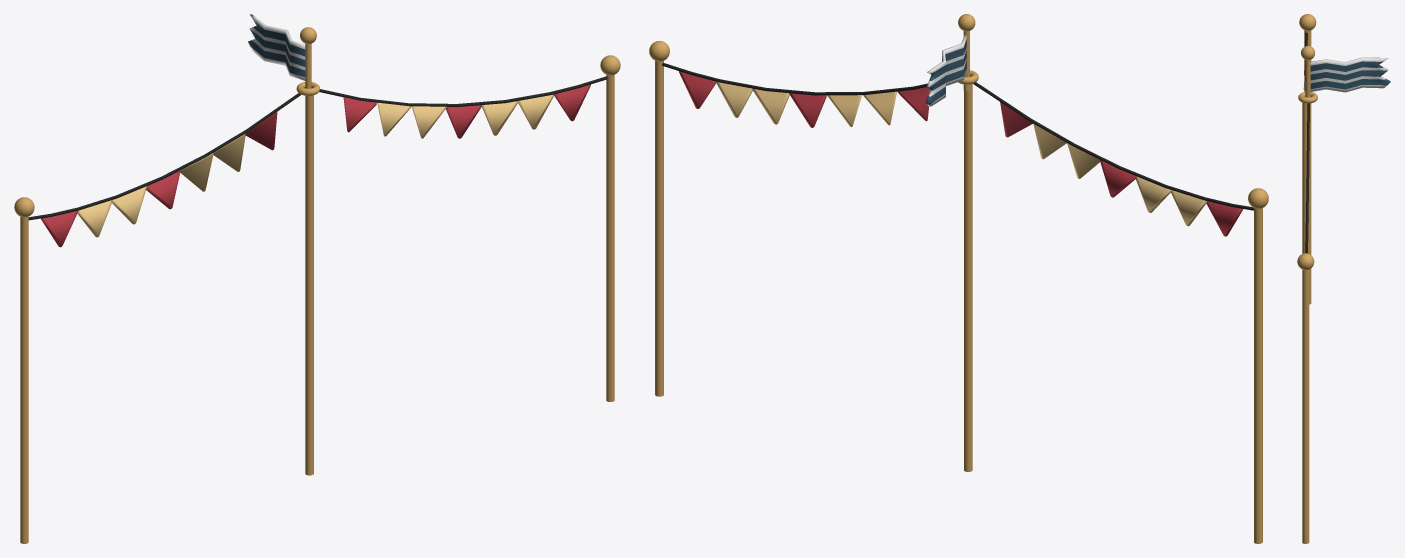
The model's file is flags1 (1).fbx.
The picture shows the model from 3 angles, left to right: view 1: azimuth 30°, elevation 25°; view 2: azimuth 150°, elevation 25°; view 3: azimuth 270°, elevation 25°; orthographic projection. The views are drawn at different scales.
Visible parts, largest first — view 1: 圆柱_1_5.001, 圆柱_1_2, 圆柱_1_5, 平面_2_2, 扫描_4, 扫描; view 2: 圆柱_1_5.001, 圆柱_1_2, 圆柱_1_5, 平面_2_2, 扫描_4, 扫描; view 3: 平面_2_2, 圆柱_1_5, 圆柱_1_5.001, 圆柱_1_2, 扫描, 球体_6, 球体_3, 圆柱_14, 圆环_4, 球体_12.
Part boxes in pixels (<box>): 圆柱_1_5.001: <box>305,95,313,475</box>; 圆柱_1_2: <box>20,216,28,543</box>; 圆柱_1_5: <box>606,75,614,401</box>; 平面_2_2: <box>248,14,305,80</box>; 扫描_4: <box>28,86,311,220</box>; 扫描: <box>304,76,607,106</box>; 圆柱_1_5.001: <box>964,84,972,471</box>; 圆柱_1_2: <box>1254,208,1262,543</box>; 圆柱_1_5: <box>655,61,663,396</box>; 平面_2_2: <box>925,35,966,106</box>; 扫描_4: <box>973,82,1253,210</box>; 扫描: <box>662,63,927,95</box>; 平面_2_2: <box>1310,57,1390,92</box>; 圆柱_1_5: <box>1302,269,1309,543</box>; 圆柱_1_5.001: <box>1302,102,1309,253</box>; 圆柱_1_2: <box>1304,30,1311,304</box>; 扫描: <box>1305,103,1309,253</box>; 球体_6: <box>1297,253,1314,270</box>; 球体_3: <box>1299,14,1316,30</box>; 圆柱_14: <box>1305,60,1310,108</box>; 圆环_4: <box>1298,92,1317,103</box>; 球体_12: <box>1301,46,1314,59</box>.
Bounding box in the file's own units: 648 × 104 × 457.
